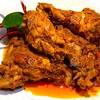rendang: (1, 1, 100, 100)
